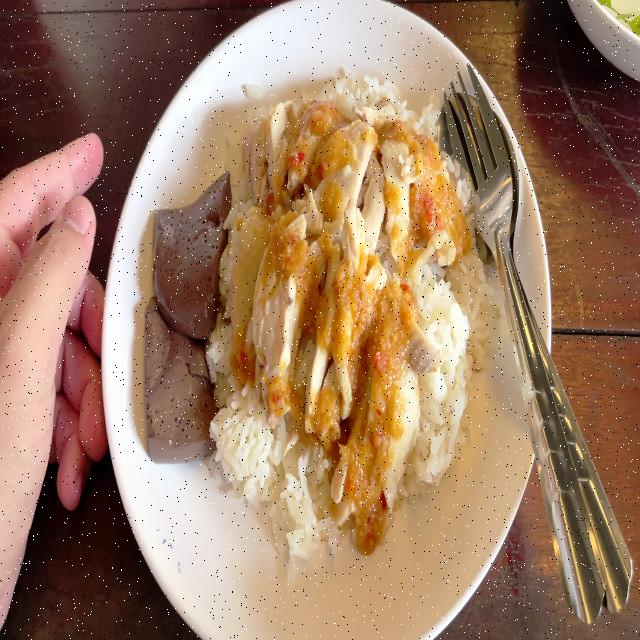boiled_chicken: (266, 106, 421, 492)
boiled_chicken_blood_jelly: (150, 180, 230, 340), (137, 305, 216, 459)
chicken_rice: (142, 61, 503, 584)
